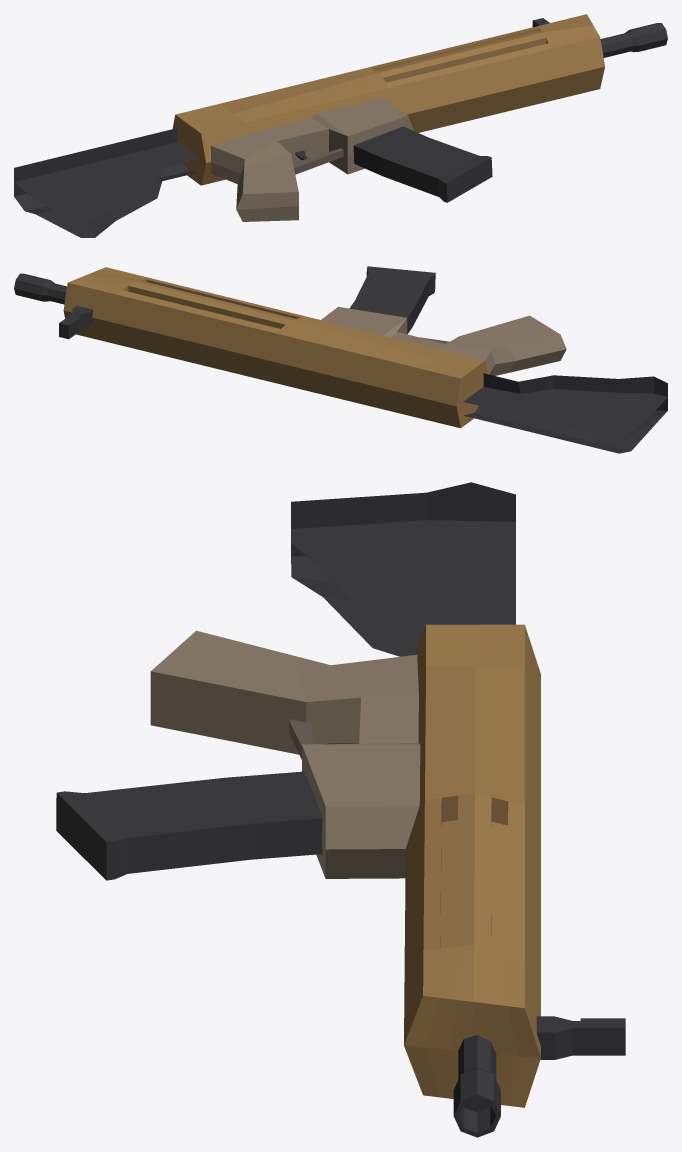
Rendered from Gun_Model_Final.fbx.
3 renders of one model, top to bottom at view 1: azimuth 30°, elevation 25°; view 2: azimuth 150°, elevation 25°; view 3: azimuth 270°, elevation 25°, orthographic. The views are drawn at different scales.
Visible parts, largest first — view 1: Cylinder; view 2: Cylinder; view 3: Cylinder.
Part boxes in pixels (box(x1,y1,x2,y2)): Cylinder: box(14, 14, 667, 237); Cylinder: box(14, 266, 667, 453); Cylinder: box(56, 482, 625, 1137).
Size of the model in its own units: 848 by 79.6 by 342.
